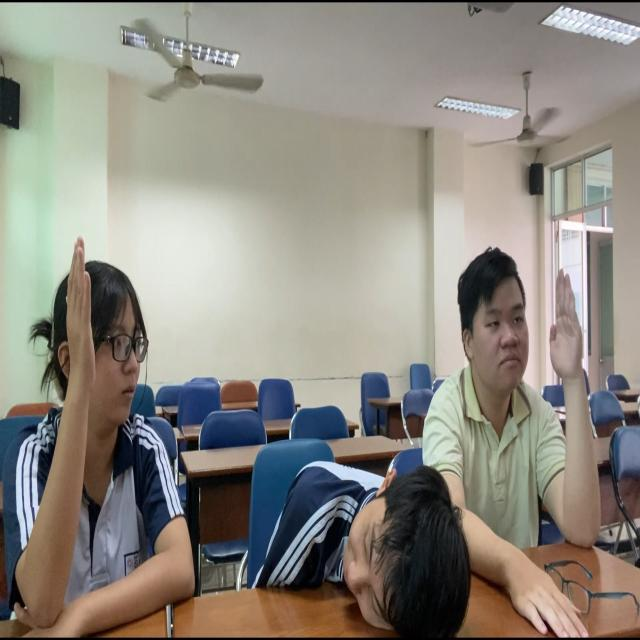raise_hand: (4, 227, 193, 637), (460, 246, 602, 640)
sleep: (250, 458, 470, 640)
